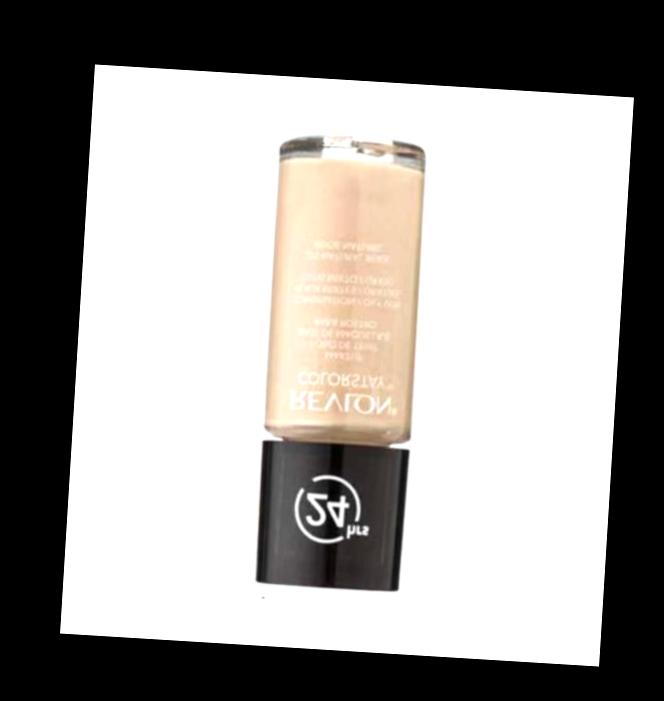cosmetic: (251, 136, 427, 590)
